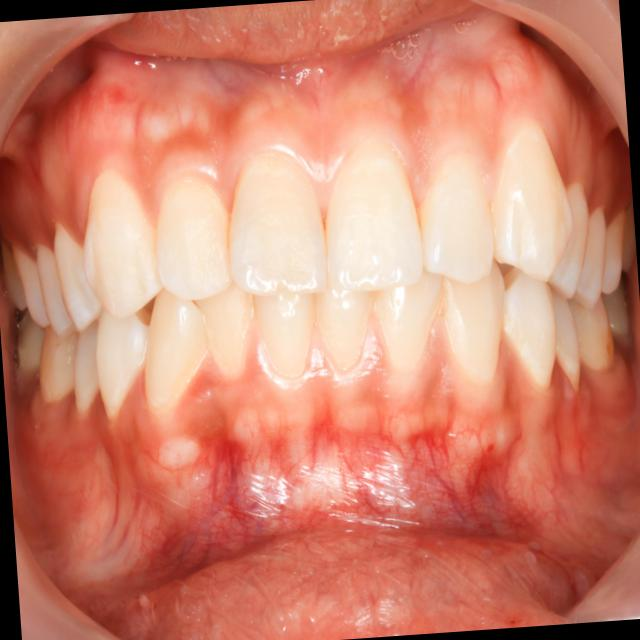Tooth: (324, 140, 423, 290), (228, 153, 327, 296), (489, 117, 574, 281), (82, 168, 163, 318), (417, 152, 493, 285), (155, 179, 233, 299), (144, 289, 209, 415), (441, 260, 505, 383), (374, 265, 442, 373), (502, 266, 557, 390), (95, 308, 151, 421), (194, 280, 254, 374), (314, 276, 374, 368), (53, 220, 102, 332), (252, 293, 315, 374), (546, 182, 589, 298), (565, 294, 613, 369), (37, 245, 76, 336), (573, 206, 606, 308), (549, 284, 580, 391), (11, 244, 49, 327), (39, 325, 78, 402), (73, 317, 100, 414)
